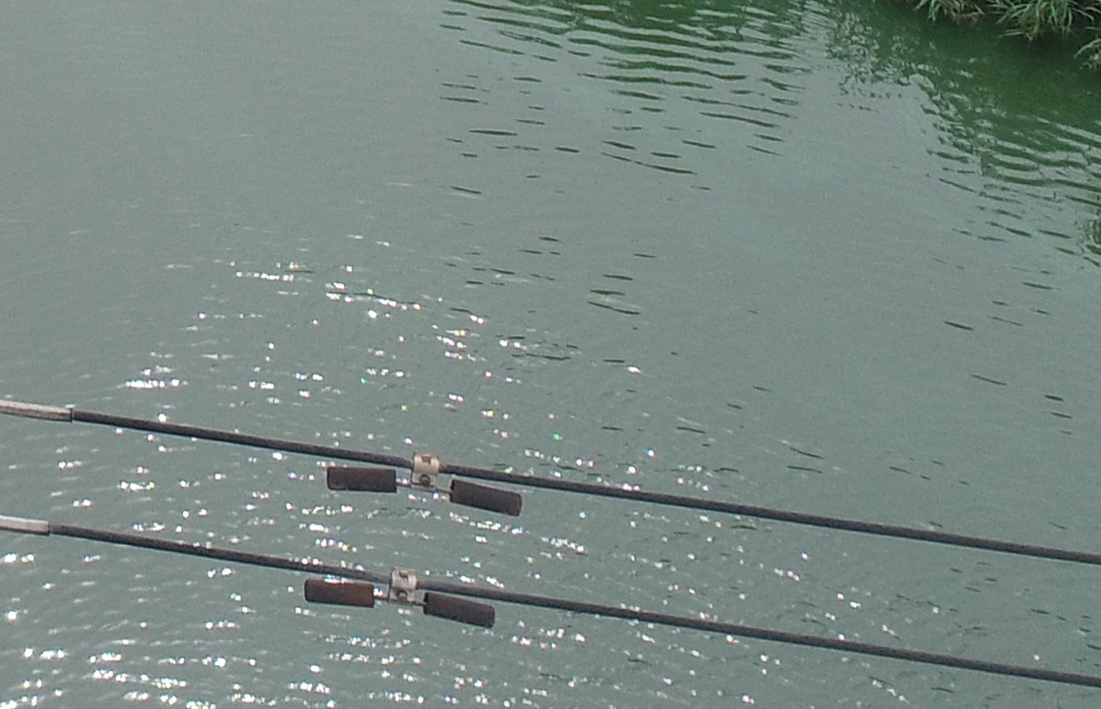damper: (323, 451, 525, 518), (301, 562, 495, 630)
